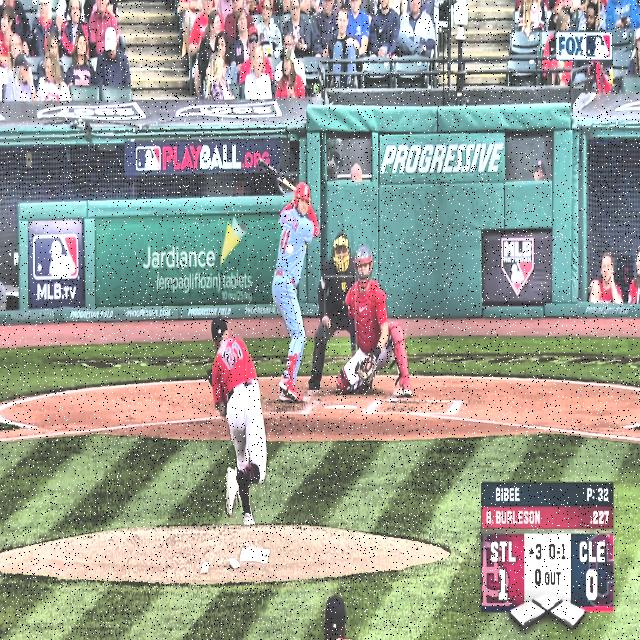baseball: (286, 244, 294, 256)
